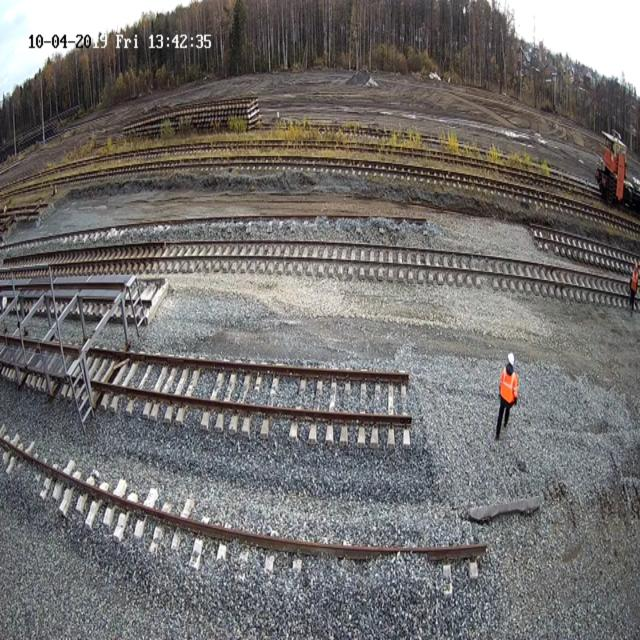Helmet: (508, 352, 514, 366)
Person: (495, 352, 518, 440), (629, 260, 639, 314)
